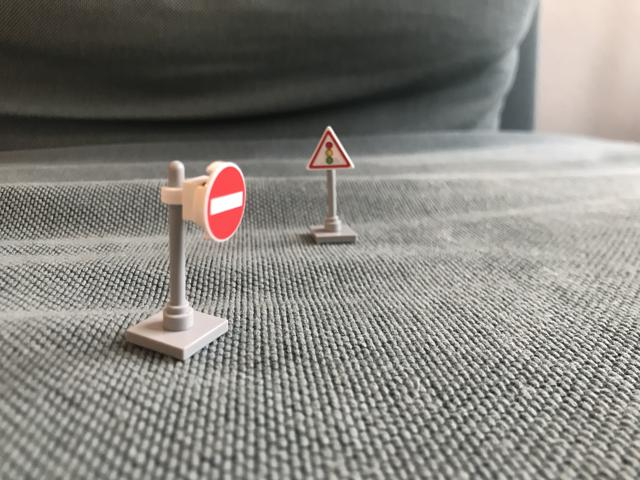lichtzeichenanlage: (301, 124, 356, 175)
verbot der einfahrt: (199, 161, 251, 244)
